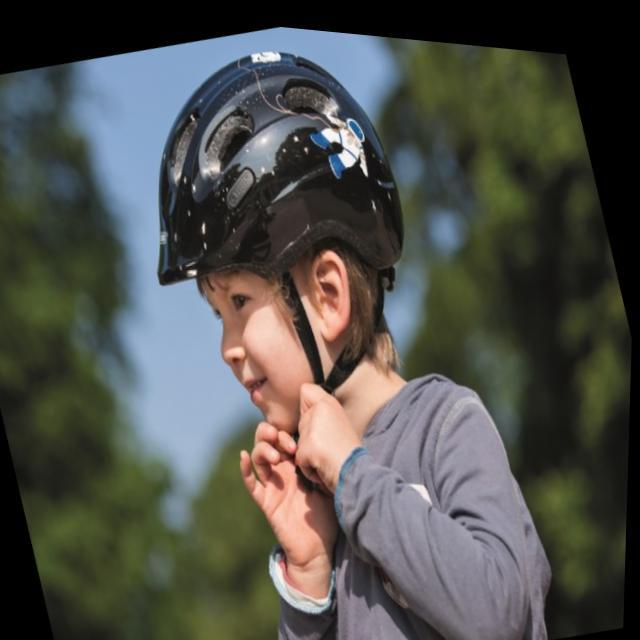Helmet: (147, 44, 417, 426)
